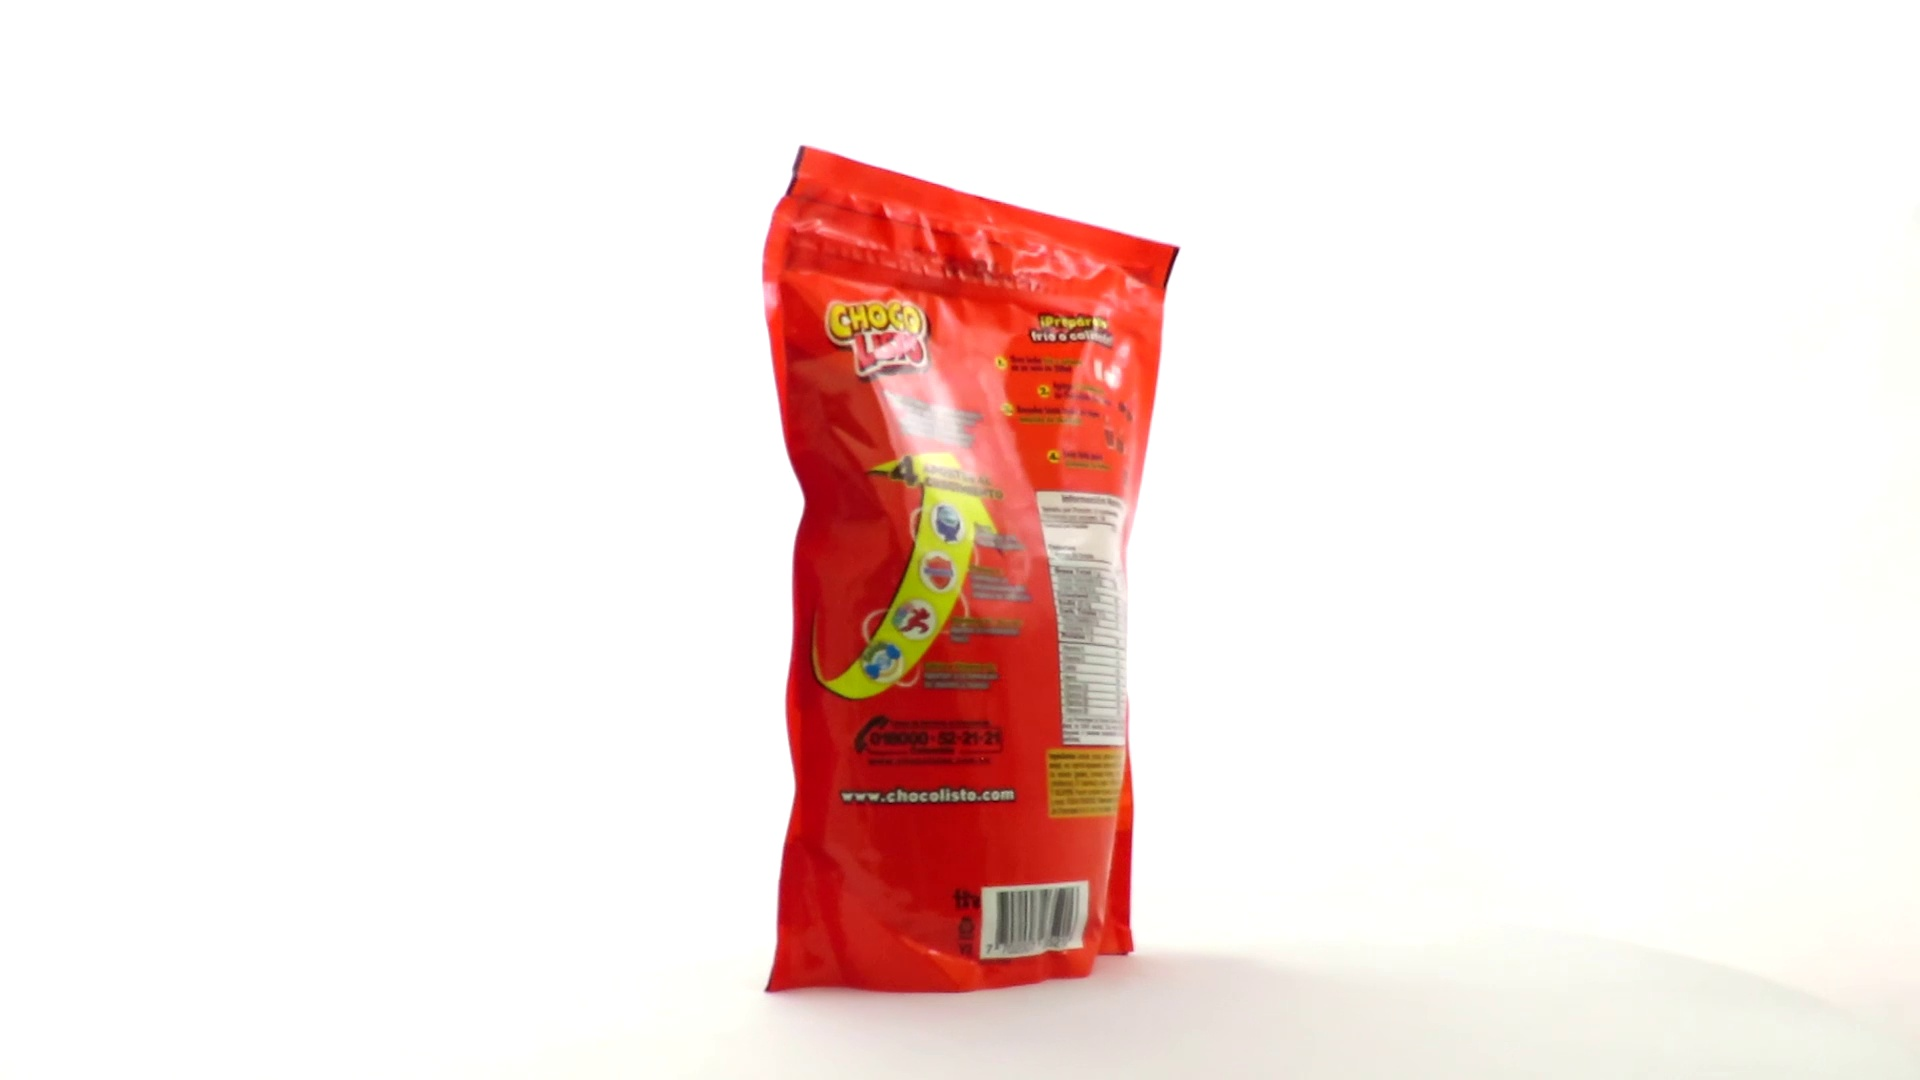COL0170103DYP36000: (757, 140, 1185, 1000)
